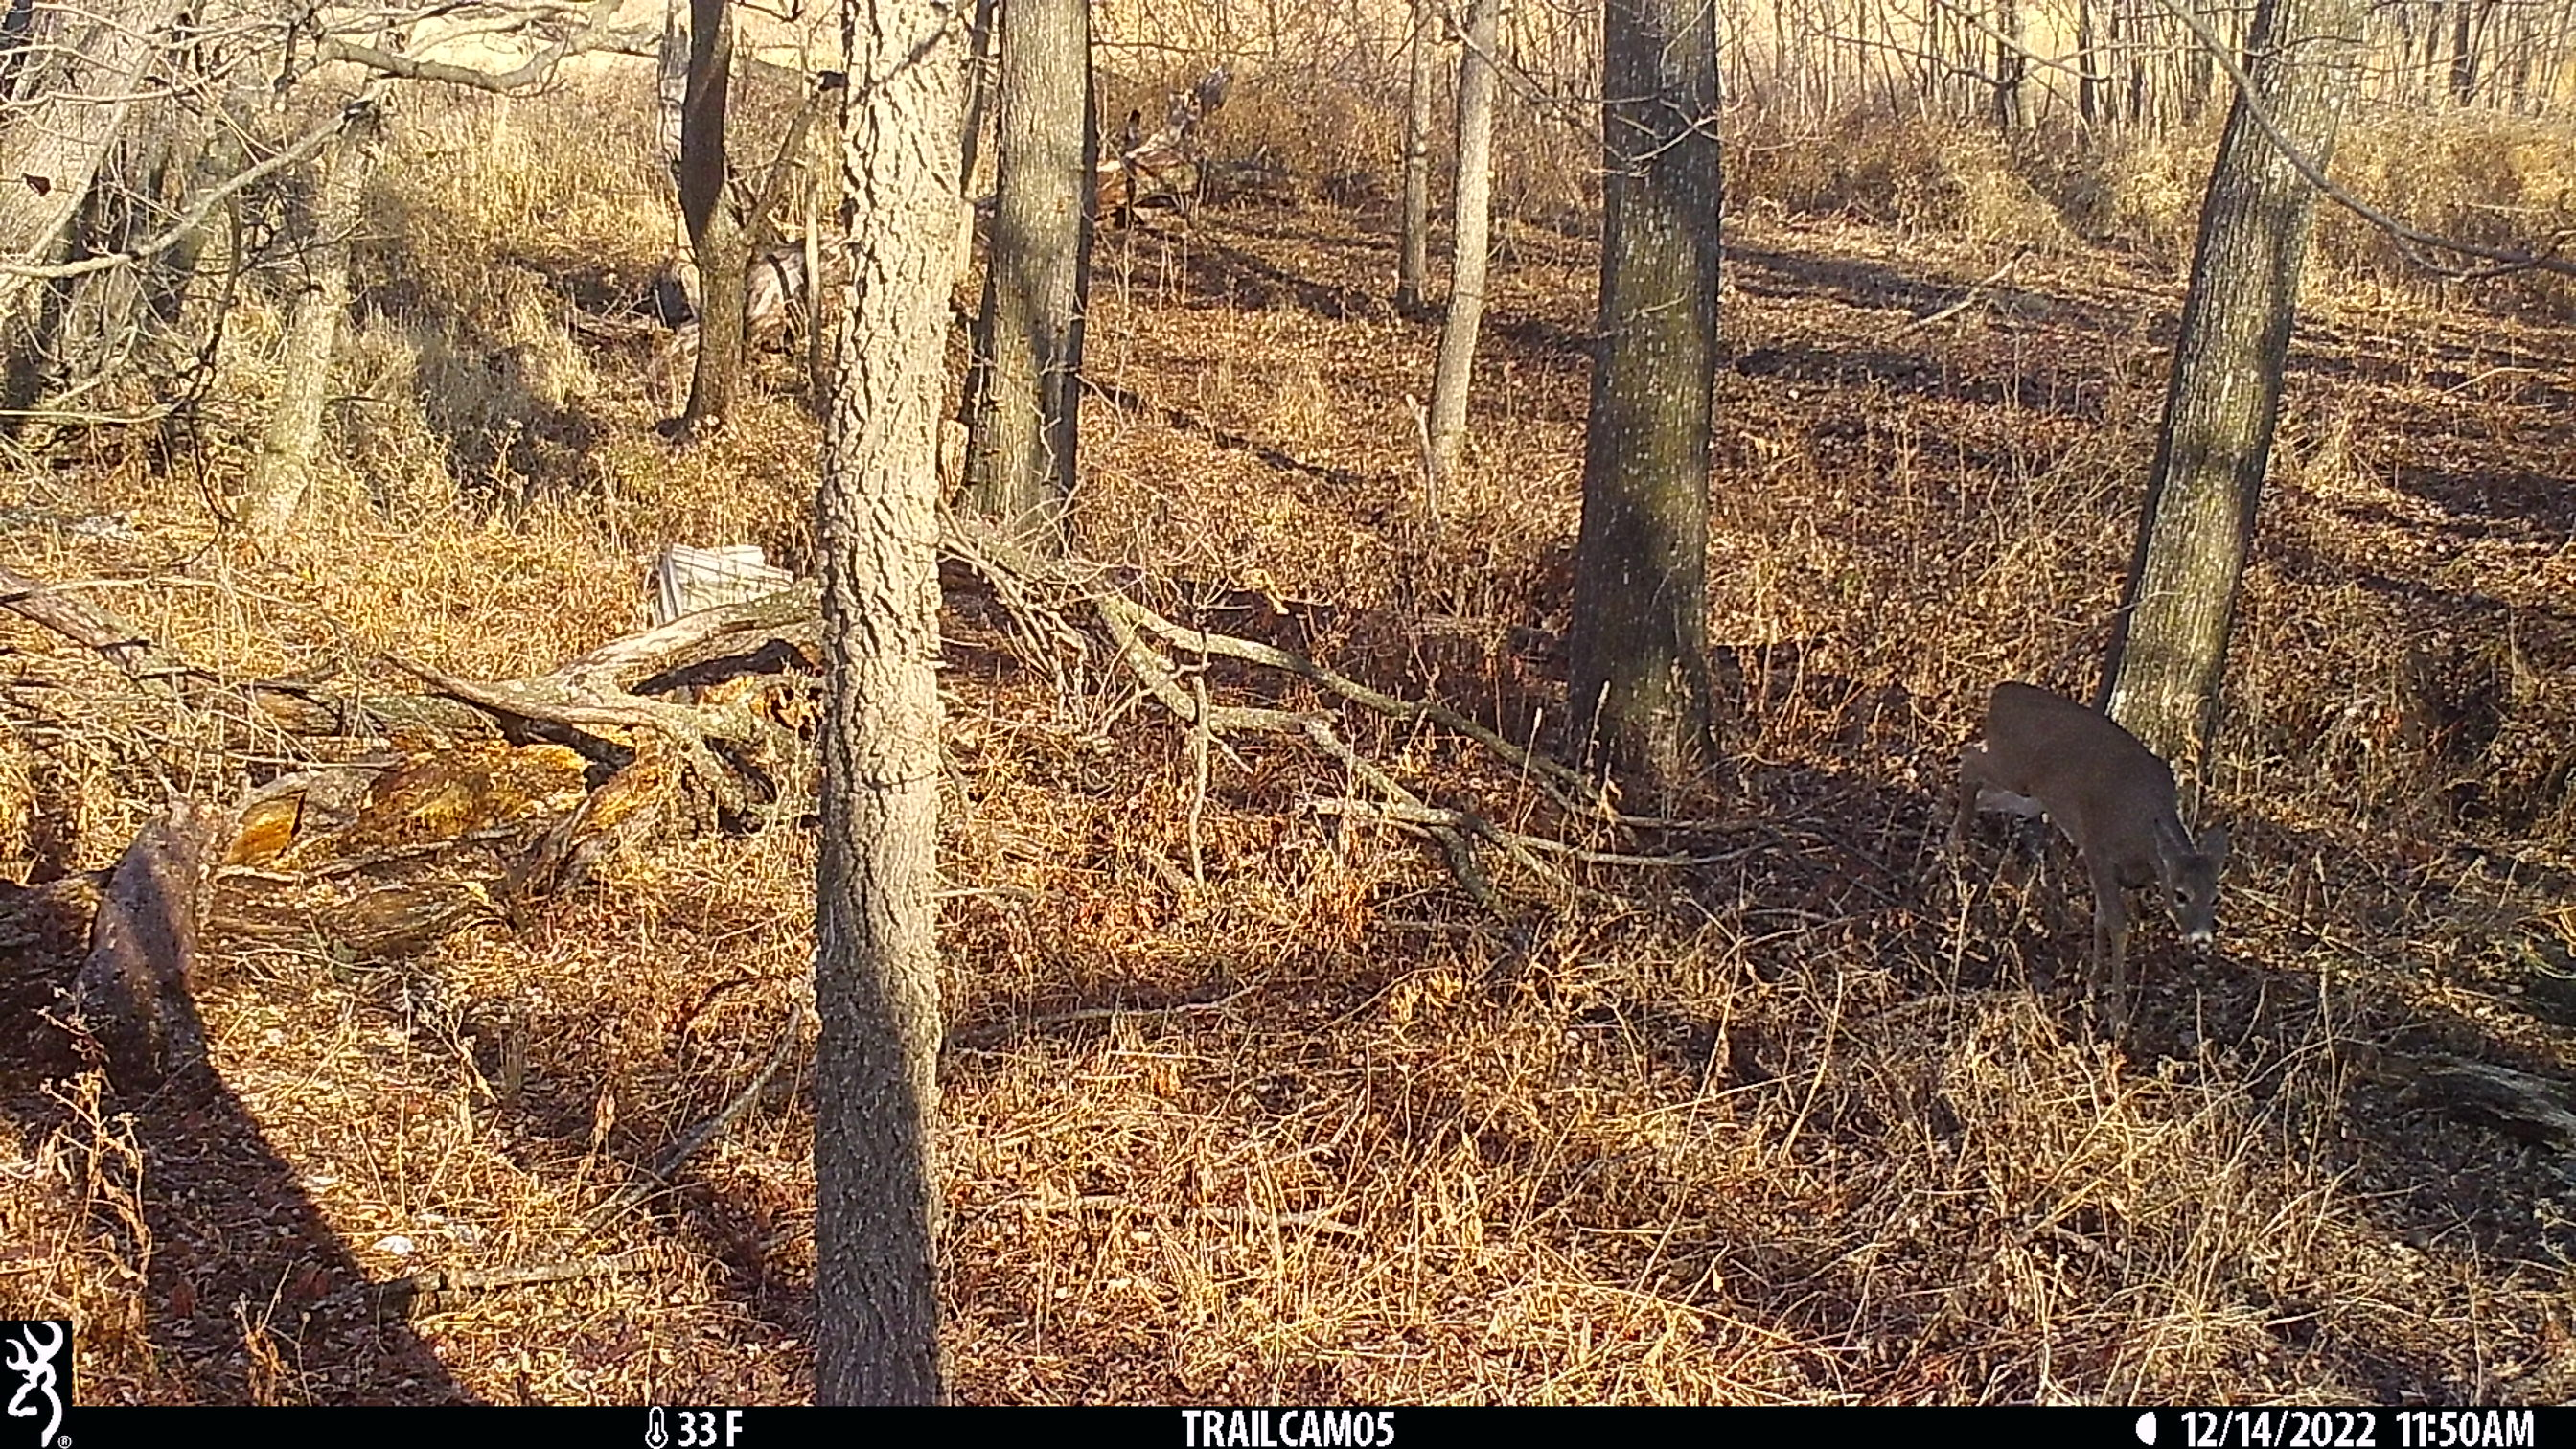DeerDoe: (1948, 672, 2240, 991)
